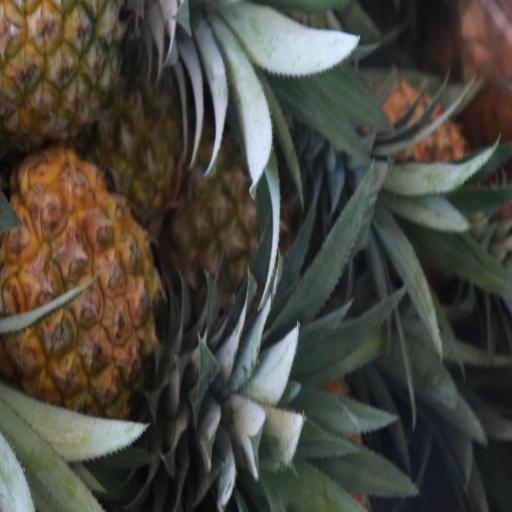Pineapple - v8 v1: (1, 153, 187, 429), (173, 106, 290, 311)
